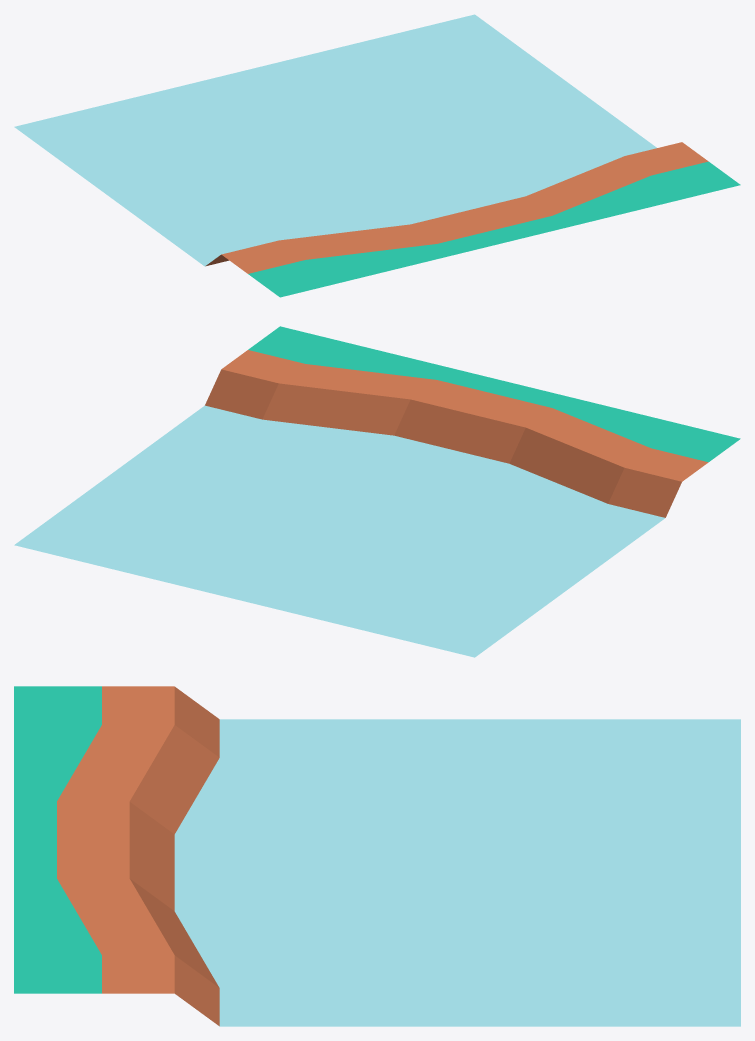
The model's file is ground_riverSide.fbx.
The picture shows the model from 3 angles, top to bottom: view 1: azimuth 30°, elevation 25°; view 2: azimuth 150°, elevation 25°; view 3: azimuth 270°, elevation 25°; orthographic projection. The views are drawn at different scales.
Parts seen in each view (by area): view 1: ground_riverSide; view 2: ground_riverSide; view 3: ground_riverSide.
Boxes of the visible parts, <box> form: ground_riverSide: <box>14,14,740,297</box>; ground_riverSide: <box>14,326,740,657</box>; ground_riverSide: <box>14,686,740,1026</box>.
Size of the model in its own units: 10 by 0.5 by 10.
